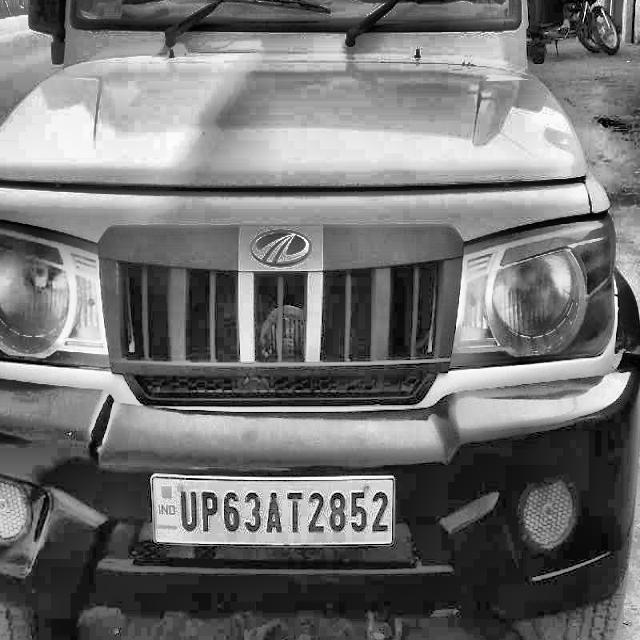light_vehicle: (0, 0, 626, 633)
